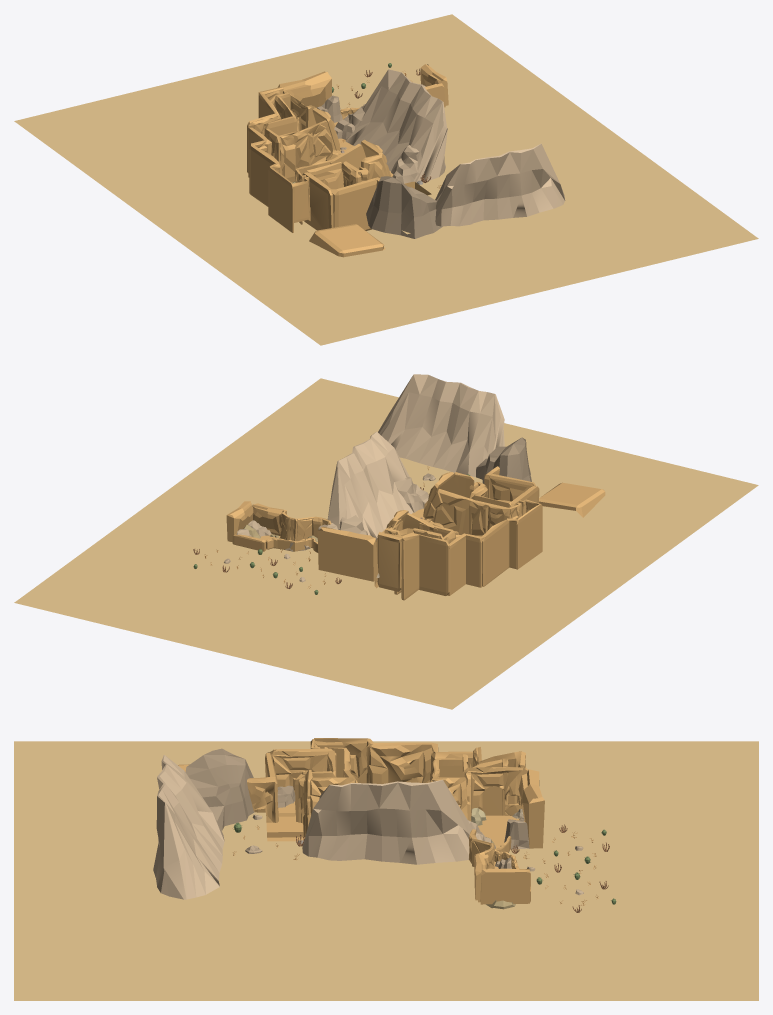
Rendered from DesertMercy.fbx.
3 views of the same model, one above another, from view 1: azimuth 30°, elevation 25°; view 2: azimuth 150°, elevation 25°; view 3: azimuth 270°, elevation 25° (orthographic). The views are drawn at different scales.
Visible parts, largest first — view 1: Plane.004, Hill_desert_003.002, Plane, Stone_mid_001.010, Hill_desert_003.001, Hill_desert_003.004, Hill_desert_003.003, Cube.018, Cube.052, Cube.025, Cube.006, Cube.017 (+8 smaller); view 2: Plane.004, Hill_desert_003.002, Plane, Cube.006, Plane.006, Hill_desert_003.003, Hill_desert_003.004, Cube.036, Stone_mid_001.010, Cube.030, Hill_desert_003.001, Cube.045 (+12 smaller); view 3: Plane.004, Plane, Hill_desert_003.002, Hill_desert_003.003, Hill_desert_003.001, Plane.006, Stone_mid_001.010, Hill_desert_003.004, Cube.030, Cube.041, Cube.017, Cube.050 (+10 smaller).
Part boxes in pixels (x1,y1,x2,y2): Plane.004: (14,14,758,345); Hill_desert_003.002: (435,143,565,226); Plane: (415,103,592,231); Stone_mid_001.010: (366,176,442,238); Hill_desert_003.001: (387,91,447,182); Hill_desert_003.004: (368,78,431,163); Hill_desert_003.003: (345,69,407,145); Cube.018: (326,178,376,230); Cube.052: (309,224,385,257); Cube.025: (268,166,293,232); Cube.006: (277,71,331,120); Cube.017: (302,172,333,230); Plane.004: (14,378,758,709); Hill_desert_003.002: (378,374,504,476); Plane: (265,422,450,519); Cube.006: (317,526,378,581); Plane.006: (168,525,276,576); Hill_desert_003.003: (327,457,382,541); Hill_desert_003.004: (346,439,401,530); Cube.036: (419,534,449,595); Stone_mid_001.010: (476,437,531,483); Cube.030: (481,519,509,586); Hill_desert_003.001: (364,431,413,513); Cube.045: (424,489,472,534); Plane.004: (14,741,758,1000); Plane: (144,841,477,906); Hill_desert_003.002: (153,755,224,899); Hill_desert_003.003: (400,779,472,864); Hill_desert_003.001: (302,783,368,860); Plane.006: (492,880,606,922); Stone_mid_001.010: (185,748,254,830); Hill_desert_003.004: (352,781,411,862); Cube.030: (368,742,432,783); Cube.041: (480,868,530,904); Cube.017: (272,748,336,792); Cube.050: (462,767,527,815).
Bounding box in the file's own units: 26544 × 6167 × 32187.
